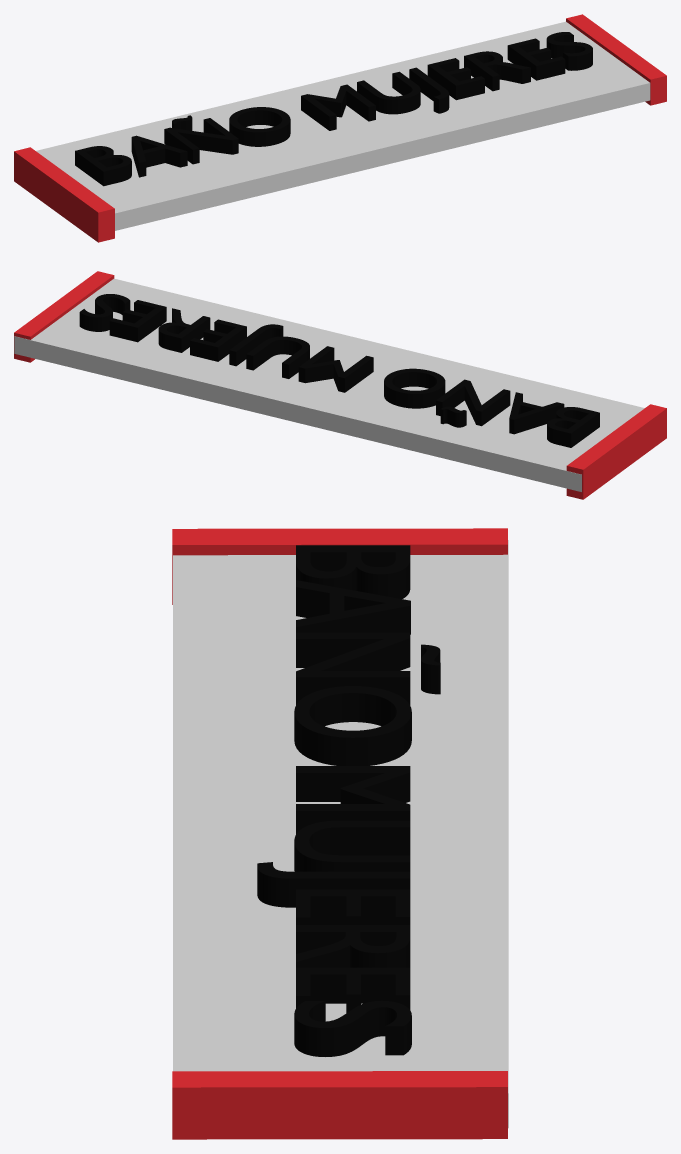
Rendered from Baño Mujeres.fbx.
The picture shows the model from 3 angles, top to bottom: view 1: azimuth 30°, elevation 25°; view 2: azimuth 150°, elevation 25°; view 3: azimuth 270°, elevation 25°; orthographic projection. The views are drawn at different scales.
Parts seen in each view (by area): view 1: Cube, Texto.001, Cubo, Cubo.001; view 2: Cube, Texto.001, Cubo, Cubo.001; view 3: Cube, Texto.001, Cubo.001, Cubo.
Boxes of the visible parts, left/top/right/bottom form: Cube: left=36, top=21, right=650, bottom=230; Texto.001: left=75, top=32, right=592, bottom=186; Cubo: left=14, top=147, right=114, bottom=242; Cubo.001: left=566, top=14, right=666, bottom=105; Cube: left=14, top=278, right=644, bottom=491; Texto.001: left=79, top=294, right=599, bottom=447; Cubo: left=566, top=404, right=666, bottom=499; Cubo.001: left=14, top=271, right=114, bottom=362; Cube: left=173, top=540, right=508, bottom=1128; Texto.001: left=257, top=545, right=440, bottom=1056; Cubo.001: left=172, top=1071, right=507, bottom=1139; Cubo: left=172, top=528, right=507, bottom=604.
Bounding box in the file's own units: 783 × 51.81 × 200.
